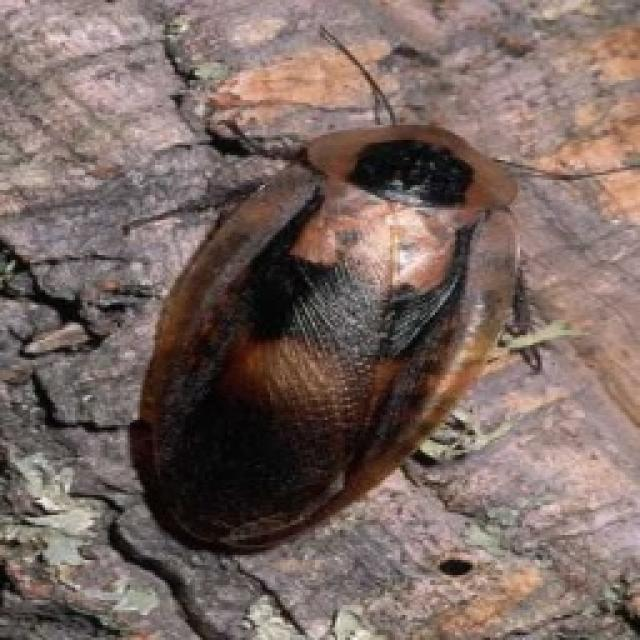cockroach: (120, 23, 552, 559)
